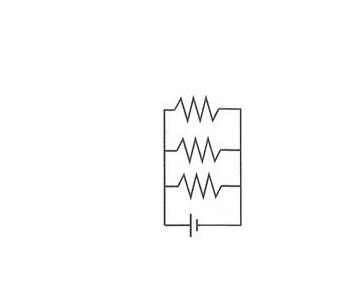resistor: (166, 90, 229, 129), (169, 133, 230, 168), (170, 168, 231, 200)
